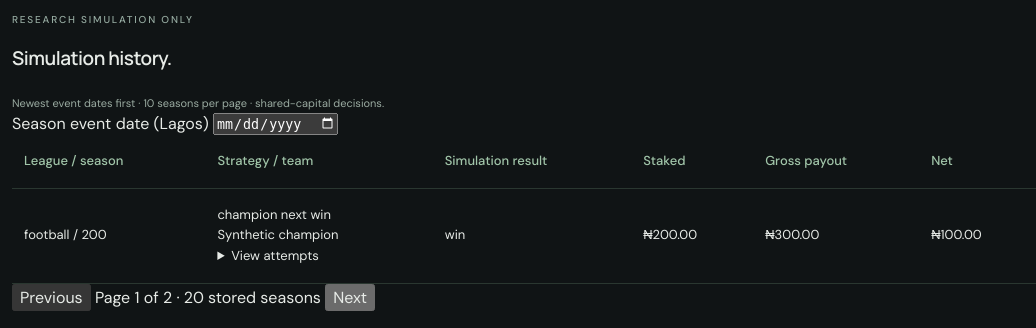
pages stored simulation results without showing legacy entry-closed decisions
Check: the text "football / 200" is shown, box [12,188,205,284]
Step 1. Click the button "Next" → (350, 298), box [325,284,375,311]
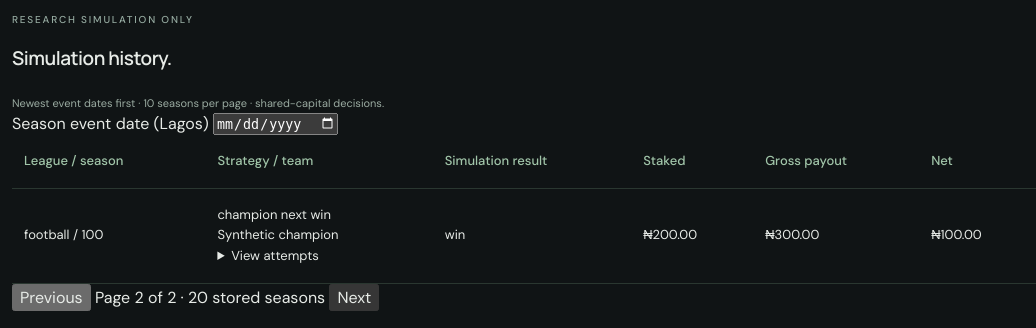
Check: the text "football / 100" is shown, box [12,188,205,284]
Check: the button "Next" is disabled, box [329,284,379,311]
